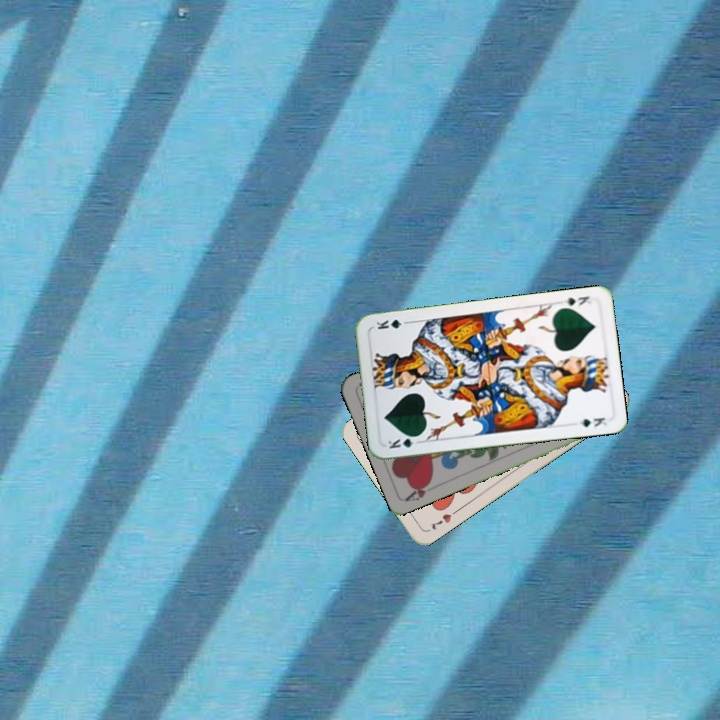GK: (384, 432, 423, 451), (557, 292, 593, 312)
H7: (427, 509, 454, 532)
HA: (402, 477, 441, 504)
